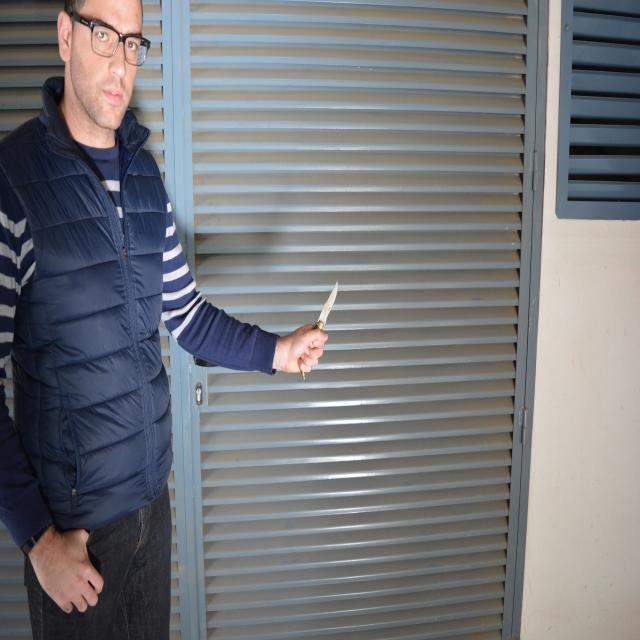knife: (316, 279, 340, 333)
